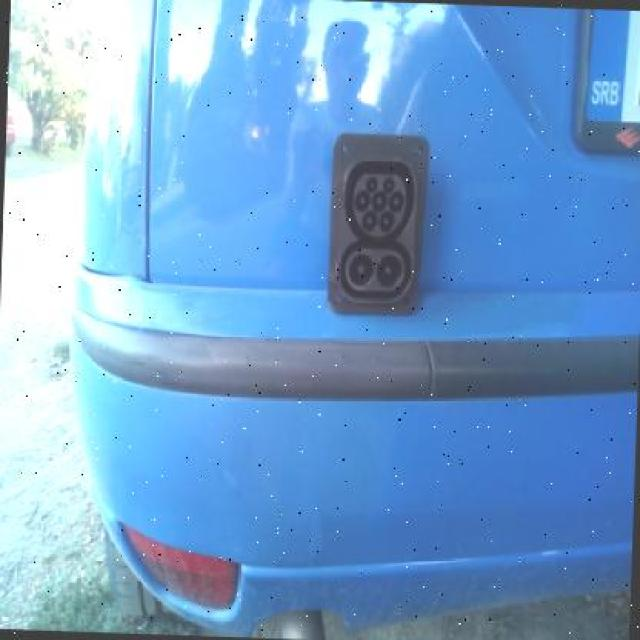CCS2: (304, 125, 456, 323)
